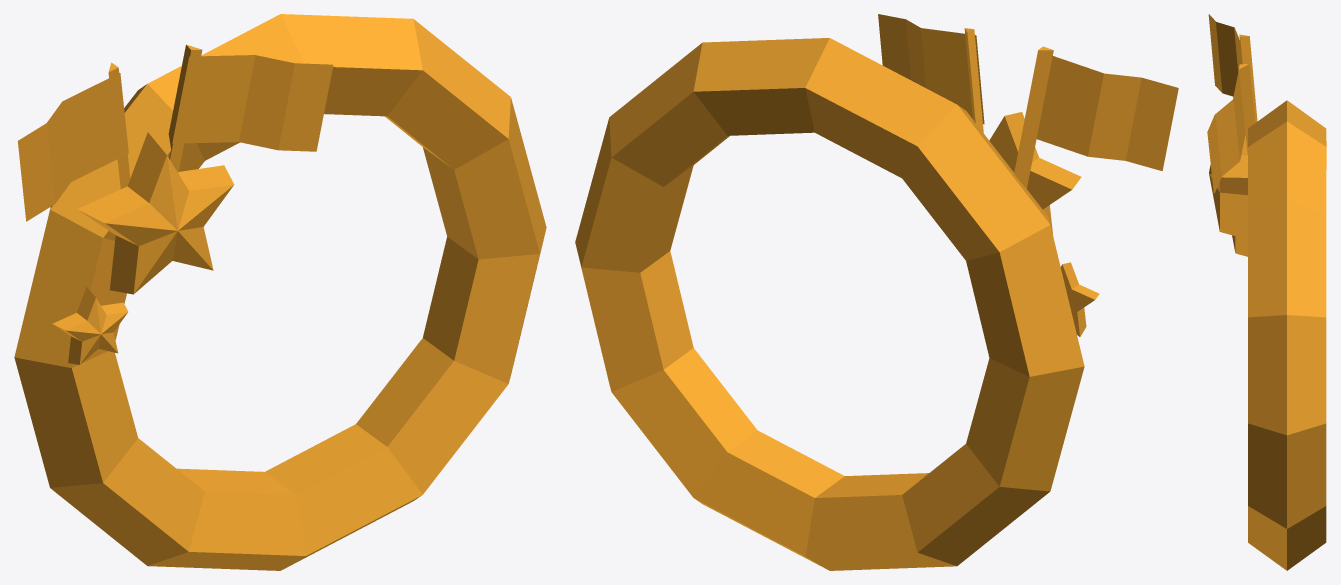
The model's file is SM_Wreath_4july_Wall_B.fbx.
3 renders of one model, left to right at view 1: azimuth 30°, elevation 25°; view 2: azimuth 150°, elevation 25°; view 3: azimuth 270°, elevation 25°, orthographic. The views are drawn at different scales.
Parts seen in each view (by area): view 1: wreath-4july-wall-b; view 2: wreath-4july-wall-b; view 3: wreath-4july-wall-b.
Boxes of the visible parts, box(x1,y1,x2,y2) form: wreath-4july-wall-b: box(14, 14, 546, 570); wreath-4july-wall-b: box(575, 14, 1178, 570); wreath-4july-wall-b: box(1207, 14, 1326, 570).
Size of the model in its own units: 0.548 by 0.5181 by 0.127.
